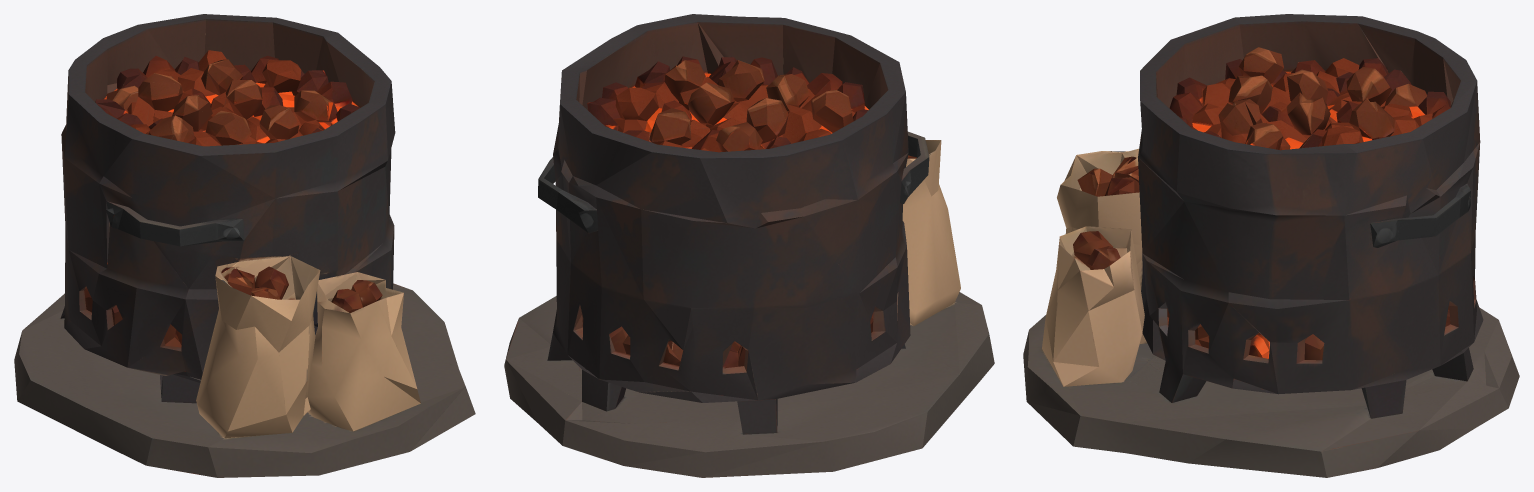
The model's file is chestnutRoaster.glb.
3 views of the same model, side by side, from view 1: azimuth 30°, elevation 25°; view 2: azimuth 150°, elevation 25°; view 3: azimuth 270°, elevation 25° (orthographic). The views are drawn at different scales.
Bounding box in the file's own units: 1.8 × 1.24 × 1.89.
Materials: 1 (1 with a texture image).
